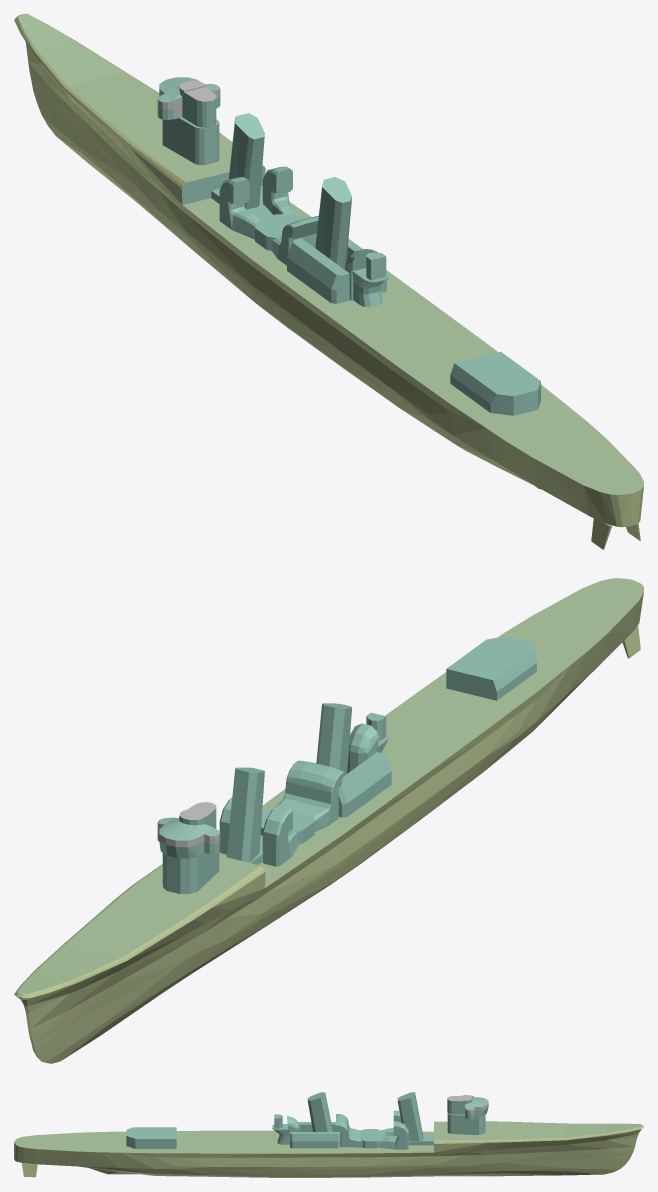
Rendered from PJSD706_armor.glb.
3 views of the same model, one above another, from view 1: azimuth 30°, elevation 25°; view 2: azimuth 150°, elevation 25°; view 3: azimuth 270°, elevation 25° (orthographic). The views are drawn at different scales.
Visible parts, largest first — view 1: armor; view 2: armor; view 3: armor.
Part boxes in pixels (x1,y1,x2,y2): armor: (14,14,643,549); armor: (14,578,643,1063); armor: (14,1092,643,1177).
Bounding box in the file's own units: 17.34 × 28.1 × 200.
